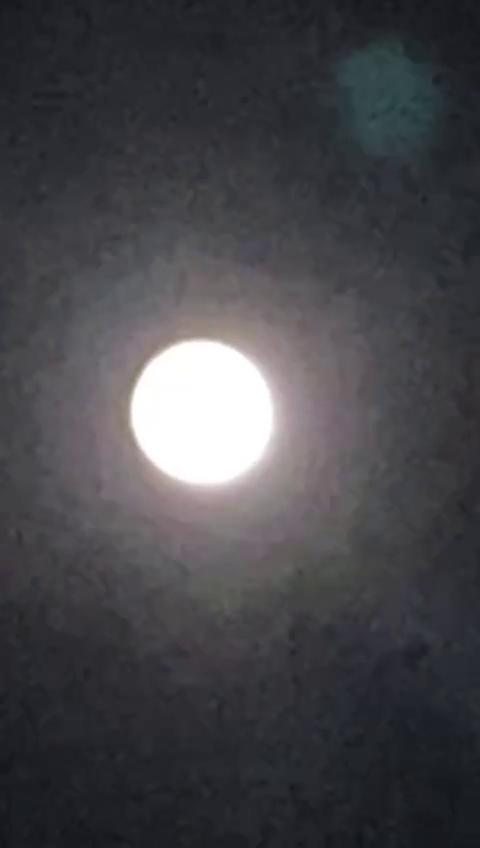moon: (124, 316, 272, 495)
